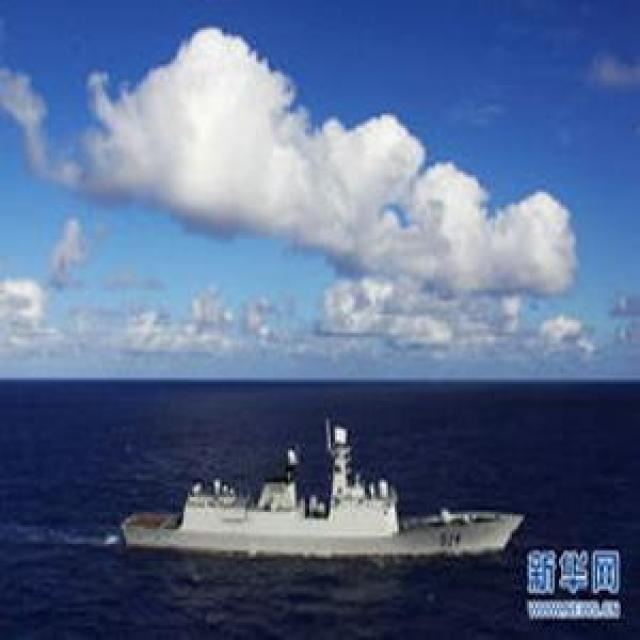navalvessels: (117, 417, 520, 561)
